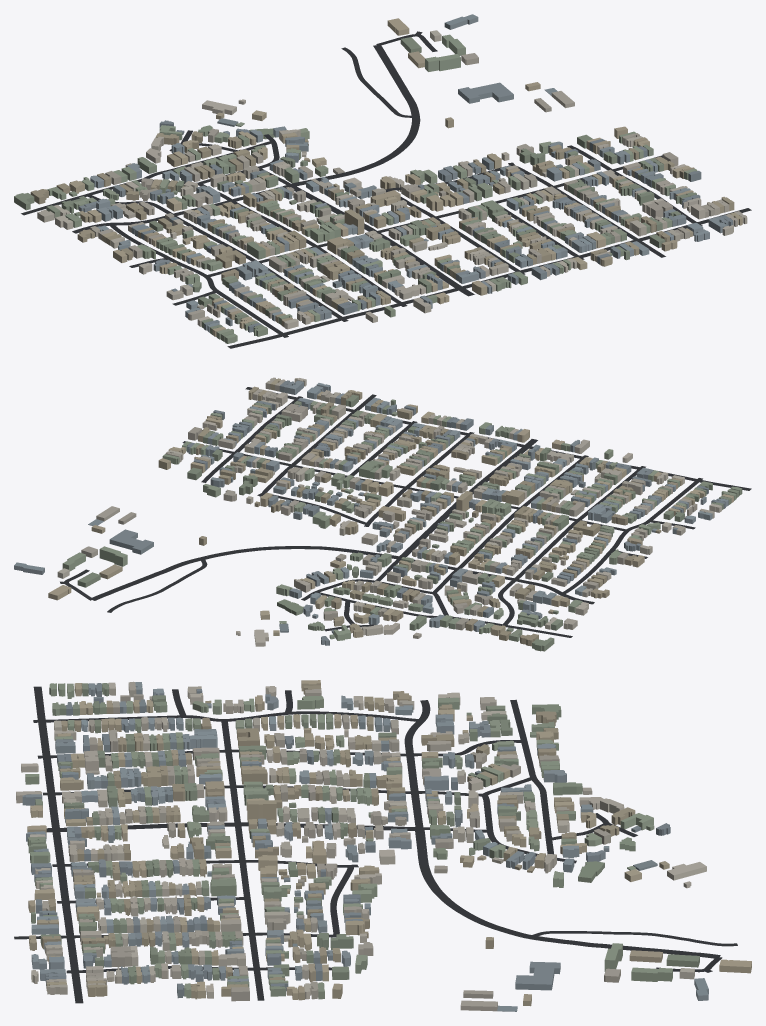
Rendered from tile_4_11.glb.
3 views of the same model, one above another, from view 1: azimuth 30°, elevation 25°; view 2: azimuth 150°, elevation 25°; view 3: azimuth 270°, elevation 25° (orthographic). The views are drawn at different scales.
Visible parts, largest first — view 1: bld_4_11, road_4_11; view 2: bld_4_11, road_4_11; view 3: bld_4_11, road_4_11.
Boxes of the visible parts, box(x1,y1,x2,y2) form: bld_4_11: box(14, 14, 747, 343); road_4_11: box(21, 31, 751, 348); bld_4_11: box(14, 377, 742, 651); road_4_11: box(60, 387, 751, 637); bld_4_11: box(16, 680, 751, 1011); road_4_11: box(14, 686, 737, 1003).
Size of the model in its own units: 839 by 56.81 by 837.
